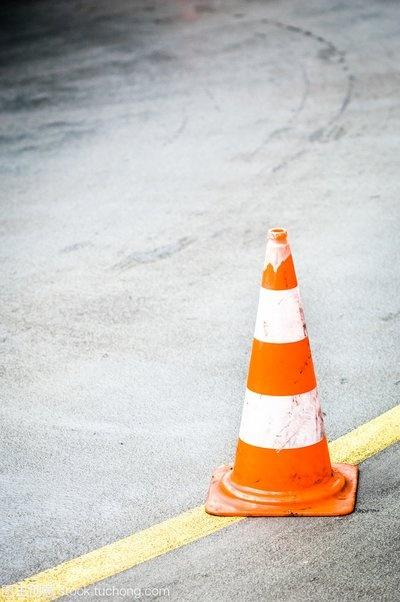cone_barrel: (208, 227, 350, 517)
